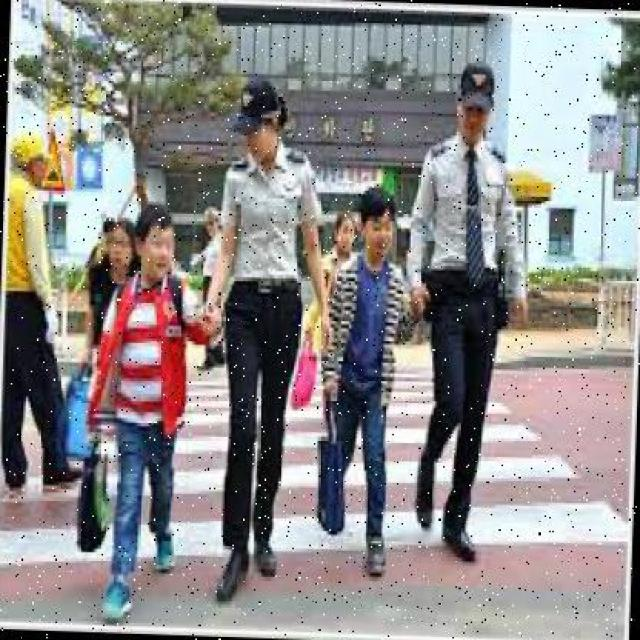obstacle: (196, 79, 346, 604), (397, 57, 537, 565), (80, 202, 220, 626), (321, 186, 427, 579), (0, 133, 95, 498), (81, 215, 141, 378)
